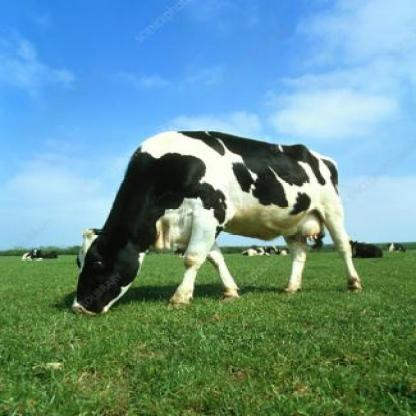mouth: (72, 295, 108, 313)
